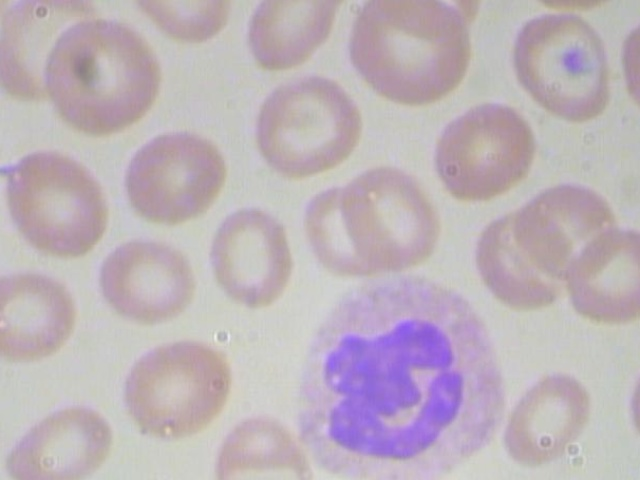RBC: (246, 68, 369, 190), (43, 12, 166, 134), (345, 0, 477, 109), (503, 3, 623, 122), (331, 165, 453, 277), (1, 145, 114, 260), (121, 336, 242, 437), (429, 100, 547, 202), (510, 179, 627, 281), (119, 123, 229, 227), (5, 384, 118, 480), (96, 232, 203, 331), (498, 369, 601, 469), (205, 203, 300, 311), (0, 255, 89, 363), (555, 220, 640, 322), (211, 398, 314, 480), (240, 0, 350, 75)
WBC: (279, 268, 511, 480)
